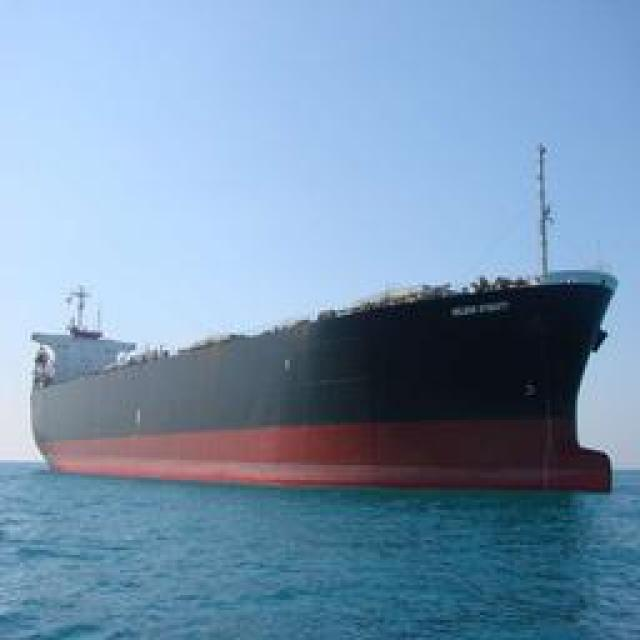Ship: (37, 278, 630, 506)
